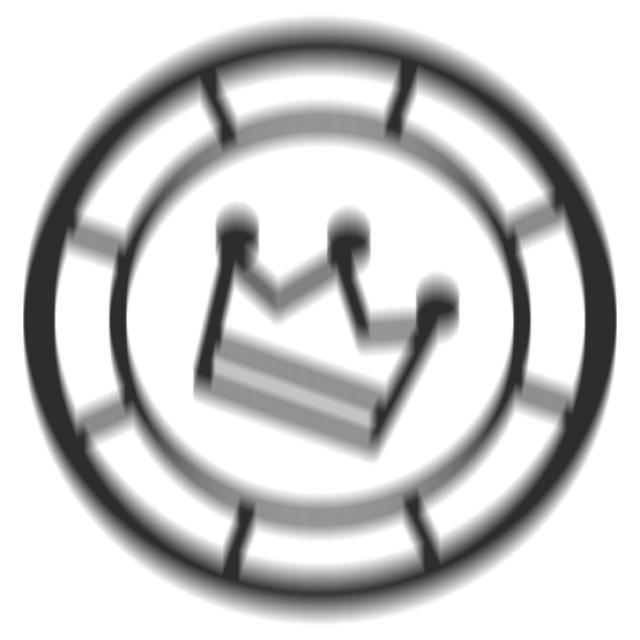coin: (16, 13, 627, 635)
